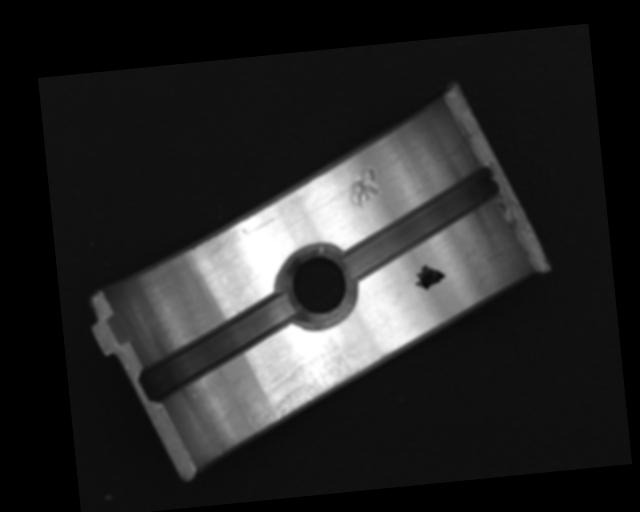blot: (412, 260, 447, 291)
bruise: (345, 165, 384, 213)
gap: (129, 287, 300, 403), (336, 165, 504, 280)
hole: (280, 240, 355, 333)
scratch: (240, 332, 376, 434)
